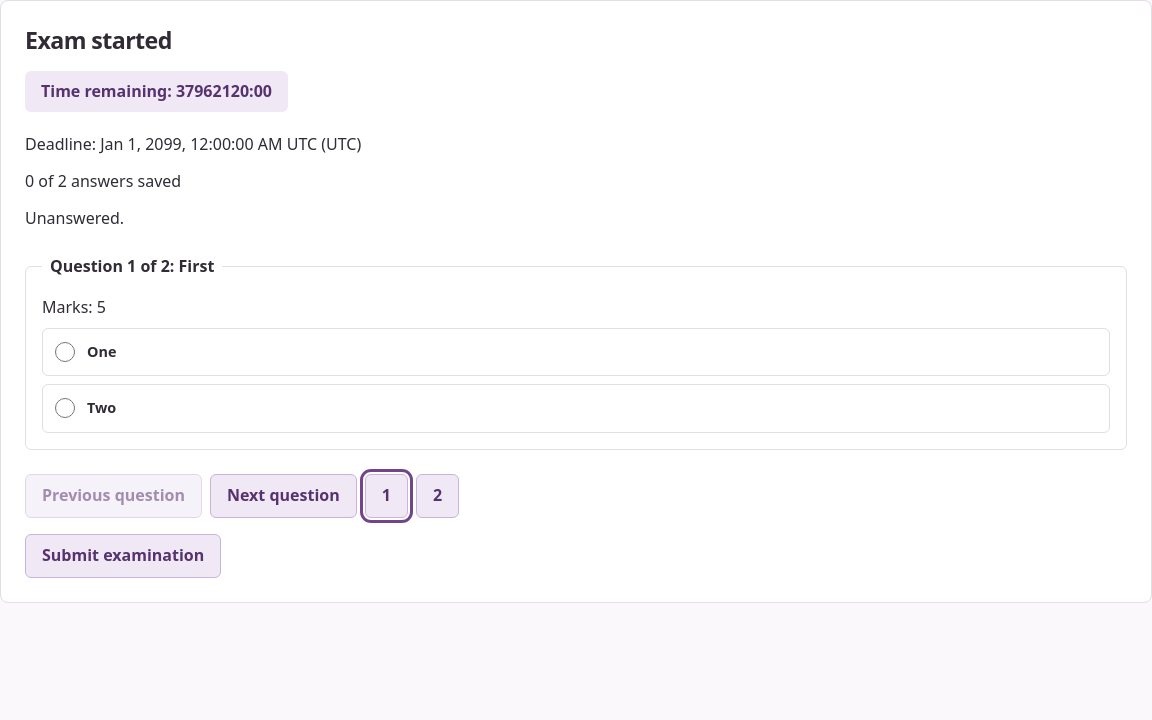
Test: shows each question's assigned marks during navigation
Expected: the text "Marks: 5" is shown, [42,296,106,318]
Click the button "Next question" at coordinates (283, 496), box [210,474,357,518]
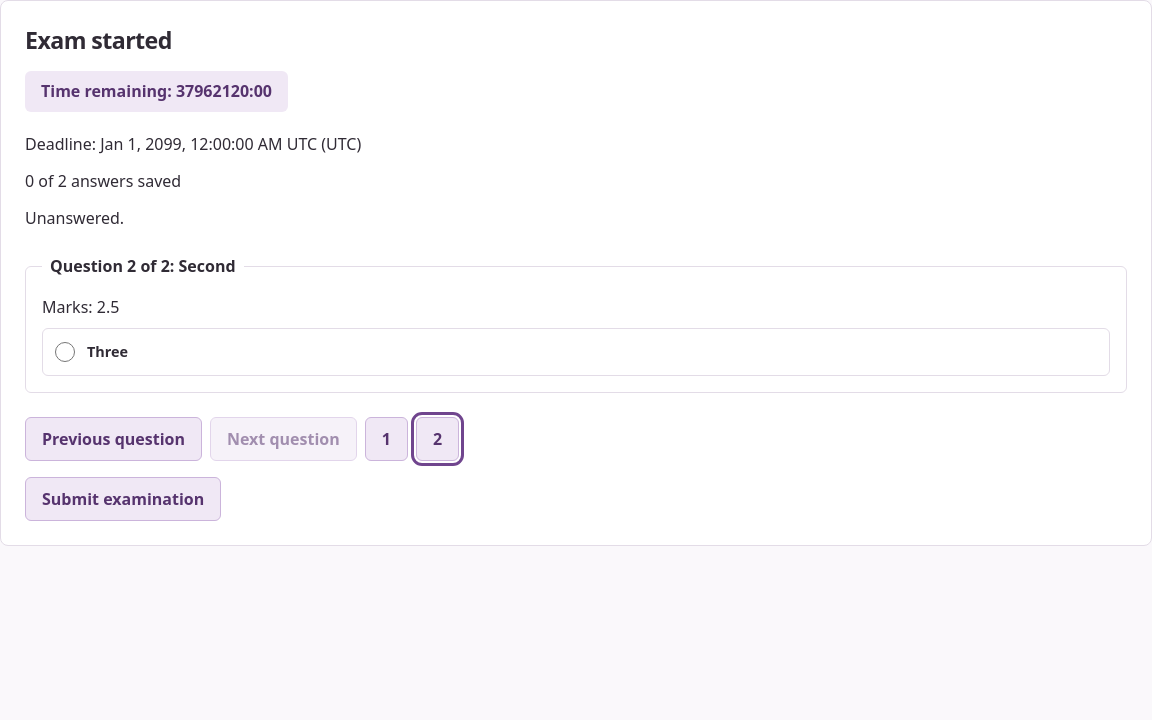
Expected: the text "Marks: 2.5" is shown, [42,296,119,318]
